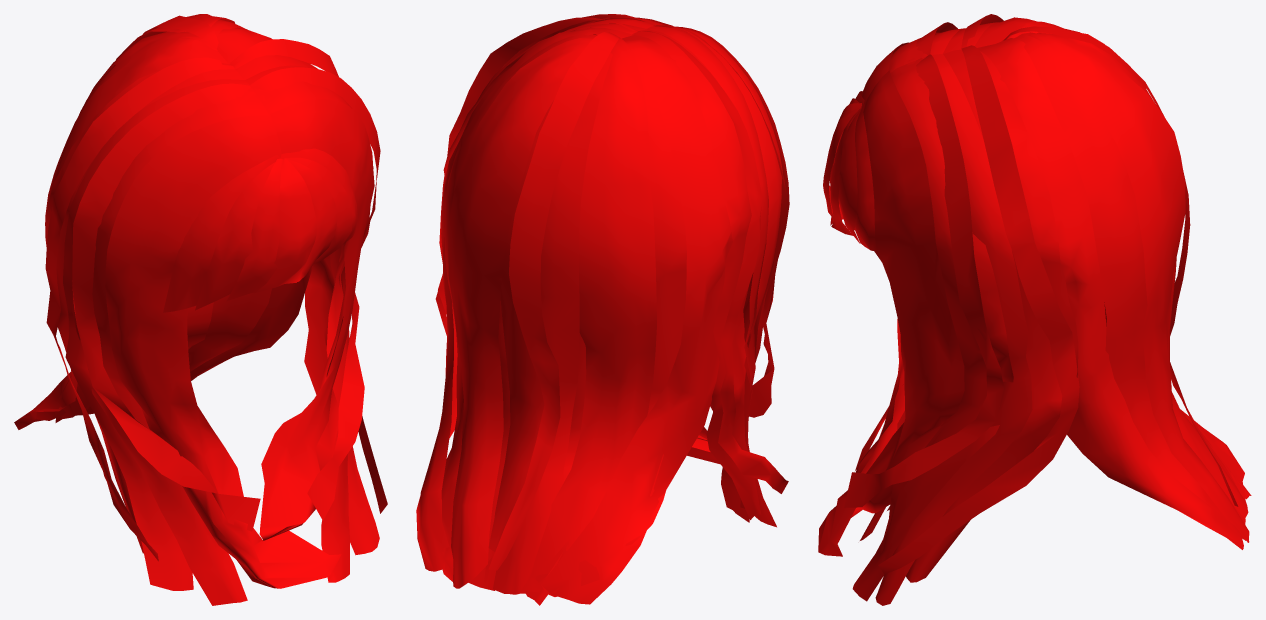
Rendered from elvs_katherine_hair_M.glb.
3 renders of one model, left to right at view 1: azimuth 30°, elevation 25°; view 2: azimuth 150°, elevation 25°; view 3: azimuth 270°, elevation 25°, orthographic. The views are drawn at different scales.
Size of the model in its own units: 0.2371 by 0.3785 by 0.2764.
Materials: 1 (1 with a texture image).
